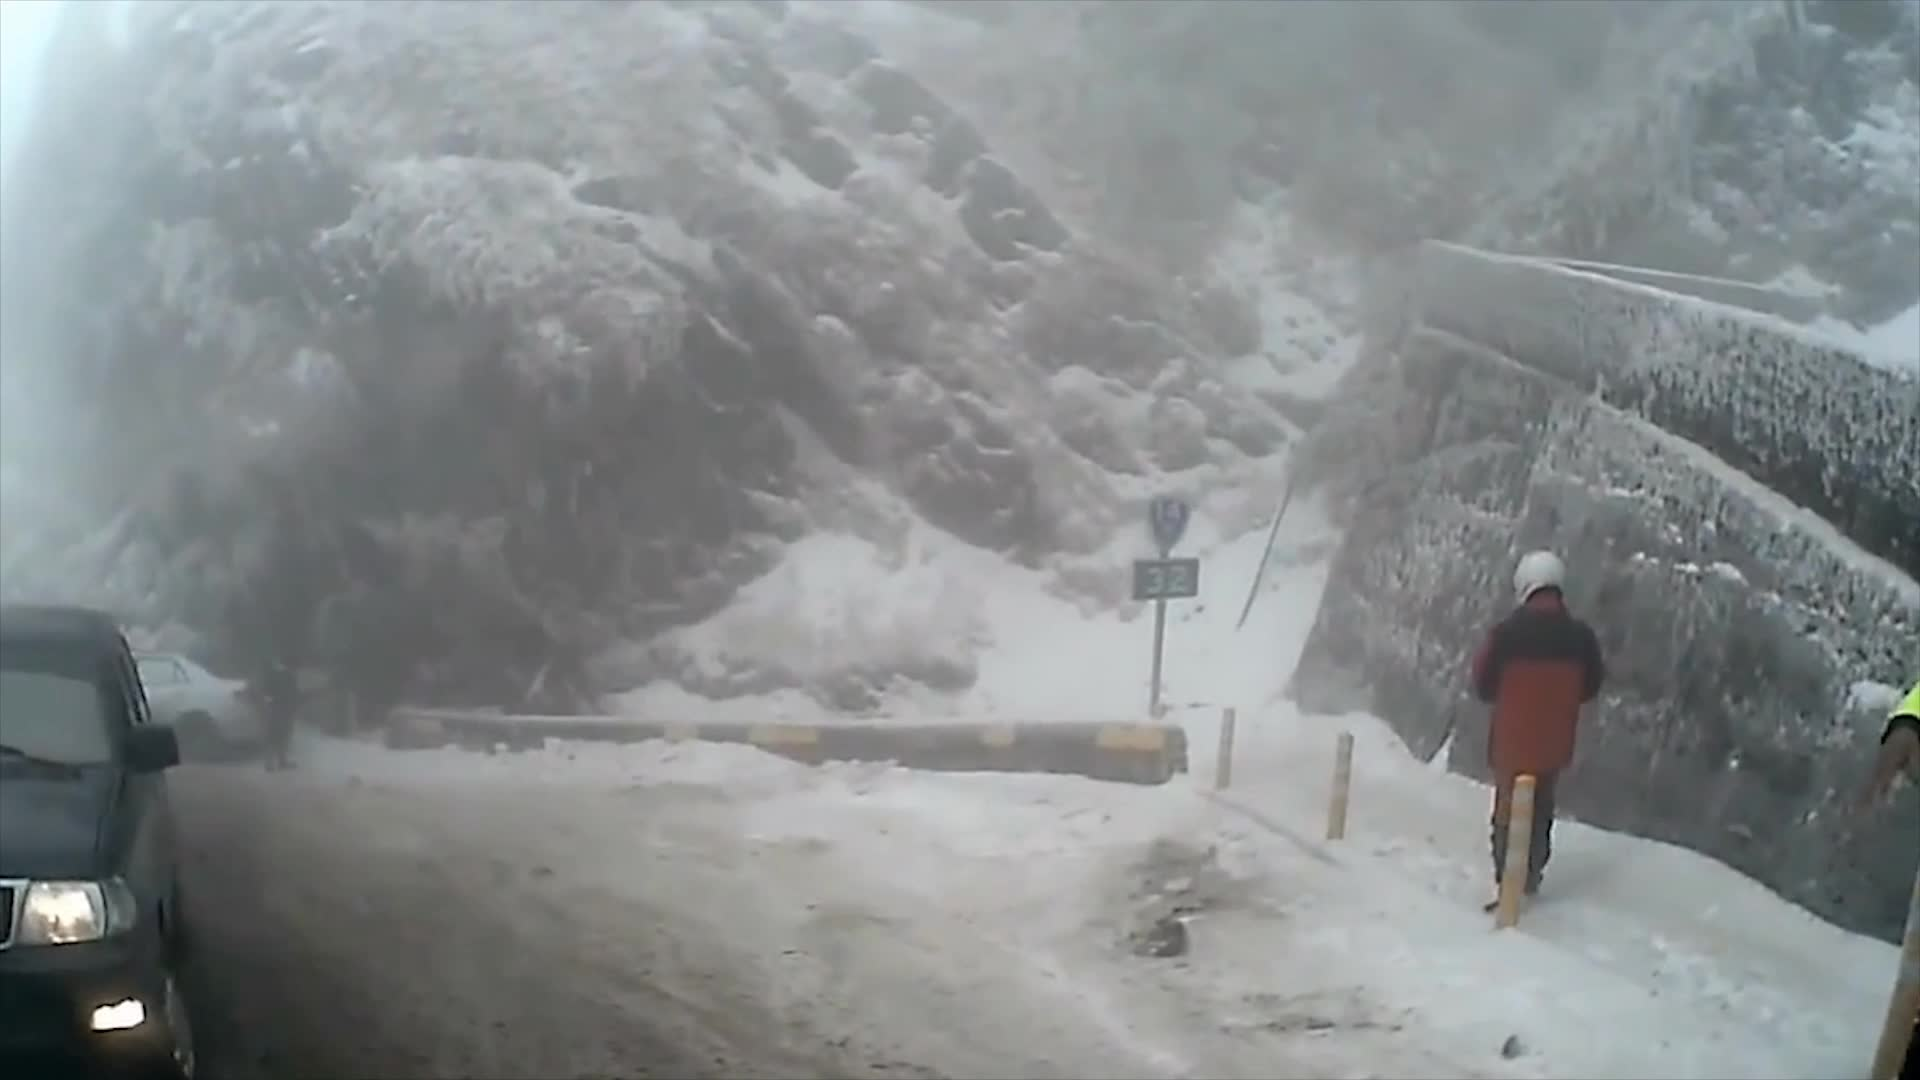pedestrian: (1473, 551, 1605, 909), (263, 653, 306, 773)
vehicle: (0, 607, 220, 1080)
